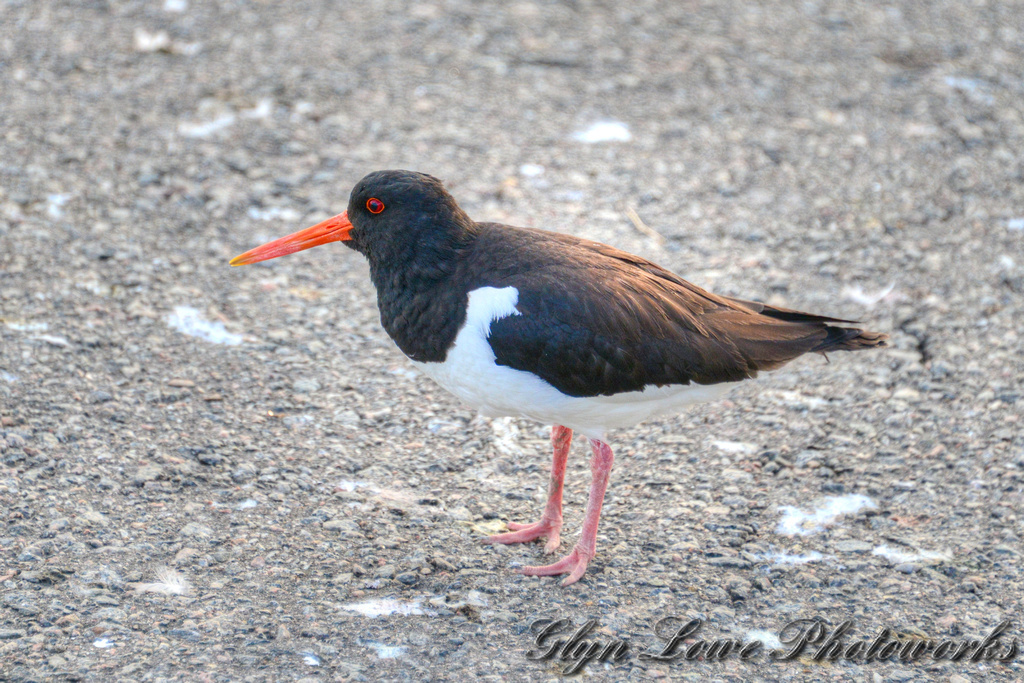face: (349, 203, 423, 264)
